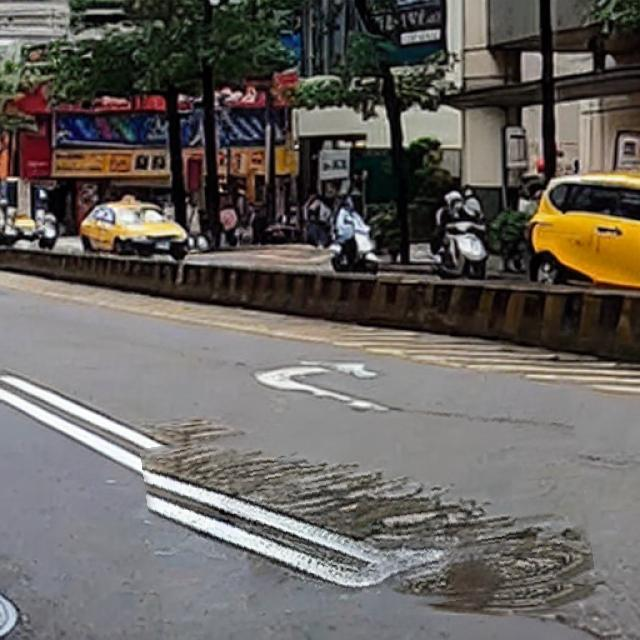puddle: (146, 404, 591, 628)
